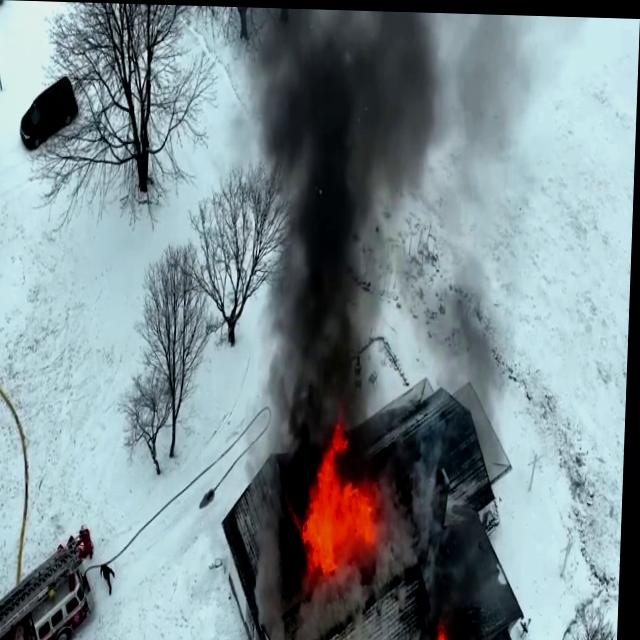fire: (306, 421, 384, 574), (435, 616, 475, 640)
smoke: (300, 32, 393, 408)
